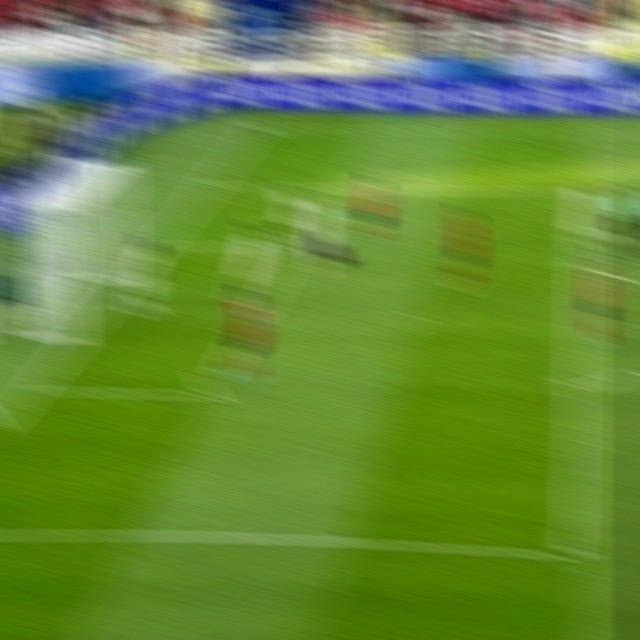bigarea_bottom_inner: (551, 532, 594, 575)
bigarea_top_outter: (197, 172, 225, 192)
bottom_arc_area_intersection: (556, 374, 596, 403)
corner: (246, 118, 274, 134)
smallarea_bottom_inner: (194, 376, 227, 412)
smallarea_bottom_outter: (19, 373, 50, 402)
smallarea_top_inner: (278, 242, 308, 258)
smallarea_top_outter: (147, 230, 176, 256)
top_arc_area_intersection: (563, 254, 594, 278)
